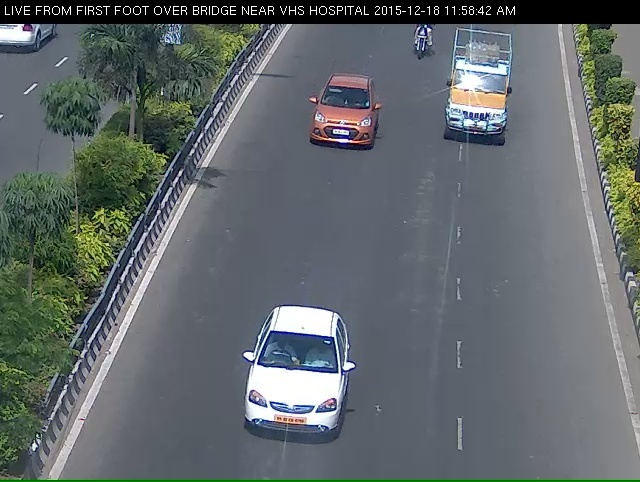Car: (223, 328, 350, 476), (439, 32, 519, 160), (300, 80, 382, 173)
Person: (403, 25, 435, 77)
